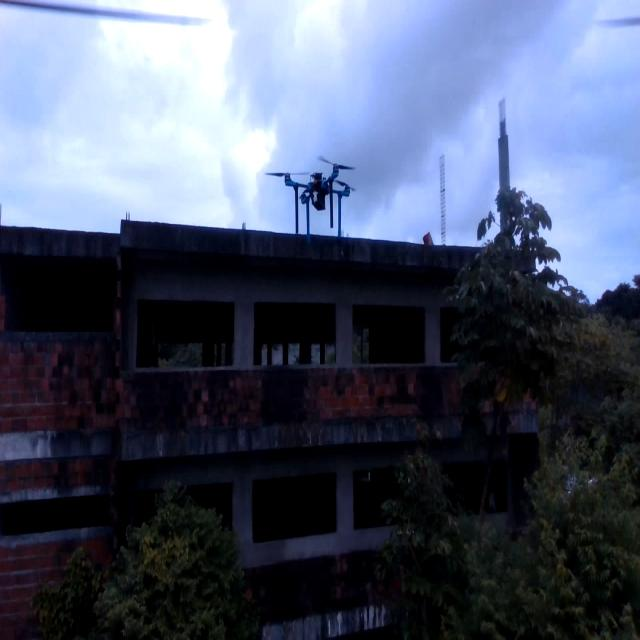-uav-: (262, 125, 372, 268)
